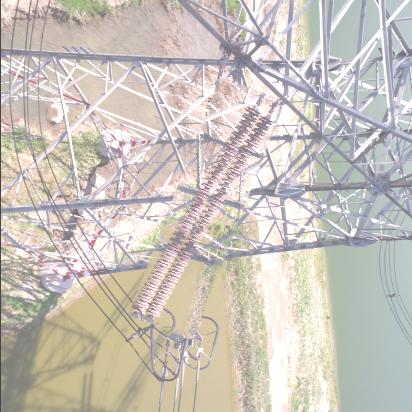insulator: (150, 78, 263, 339)
